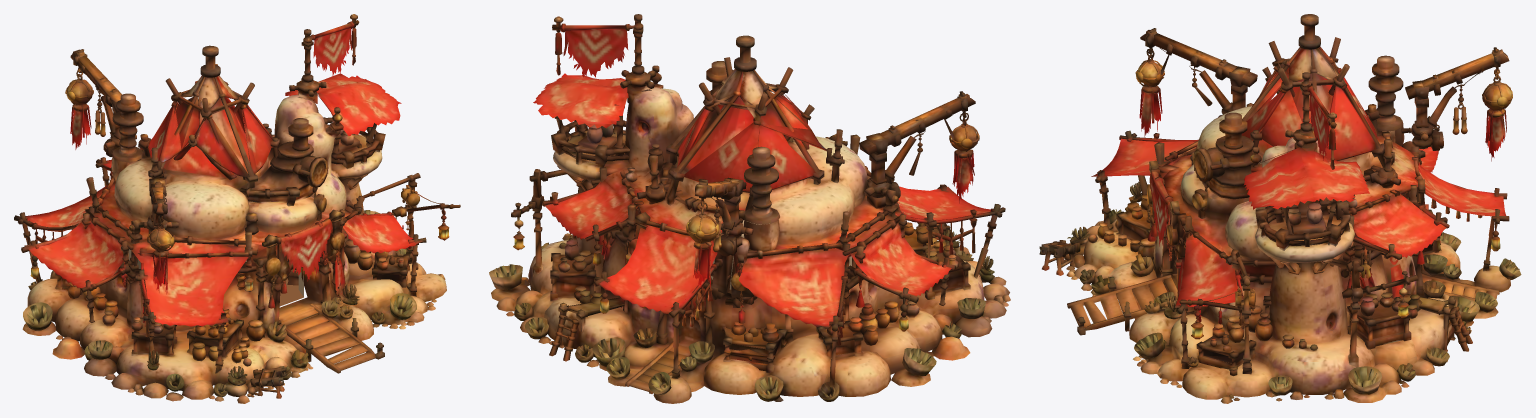
Rendered from korajin_bld_01.glb.
The picture shows the model from 3 angles, left to right: view 1: azimuth 30°, elevation 25°; view 2: azimuth 150°, elevation 25°; view 3: azimuth 270°, elevation 25°; orthographic projection. The views are drawn at different scales.
Parts seen in each view (by area): view 1: korajin_building_01, hut_interior_shell; view 2: korajin_building_01; view 3: korajin_building_01.
Boxes of the visible parts, box(x1,y1,x2,y2) form: korajin_building_01: box(14, 14, 460, 403); hut_interior_shell: box(128, 249, 303, 306); korajin_building_01: box(489, 14, 1010, 403); korajin_building_01: box(1039, 14, 1521, 403).
Size of what is drawn, in the model's own units: 0.9995 by 0.6391 by 0.9971.
Materials: 4 (1 with a texture image).
